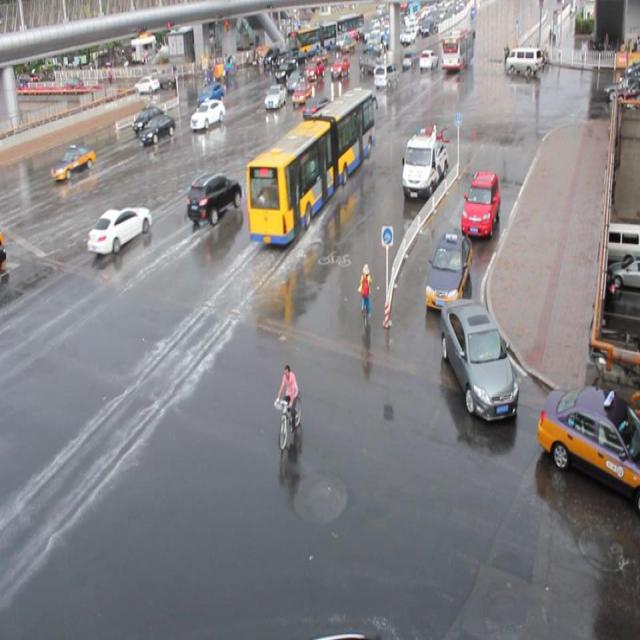bus: (401, 128, 447, 199)
car: (536, 384, 640, 509), (440, 296, 518, 418), (424, 232, 472, 310), (88, 204, 152, 254), (187, 171, 241, 225), (459, 170, 500, 237), (51, 144, 96, 181), (190, 98, 226, 130), (139, 114, 175, 144), (296, 111, 326, 142), (132, 104, 165, 132), (301, 95, 333, 120), (196, 82, 224, 109), (372, 63, 398, 89), (264, 84, 286, 110), (291, 79, 312, 105), (286, 70, 303, 92)
van: (245, 87, 375, 244)
